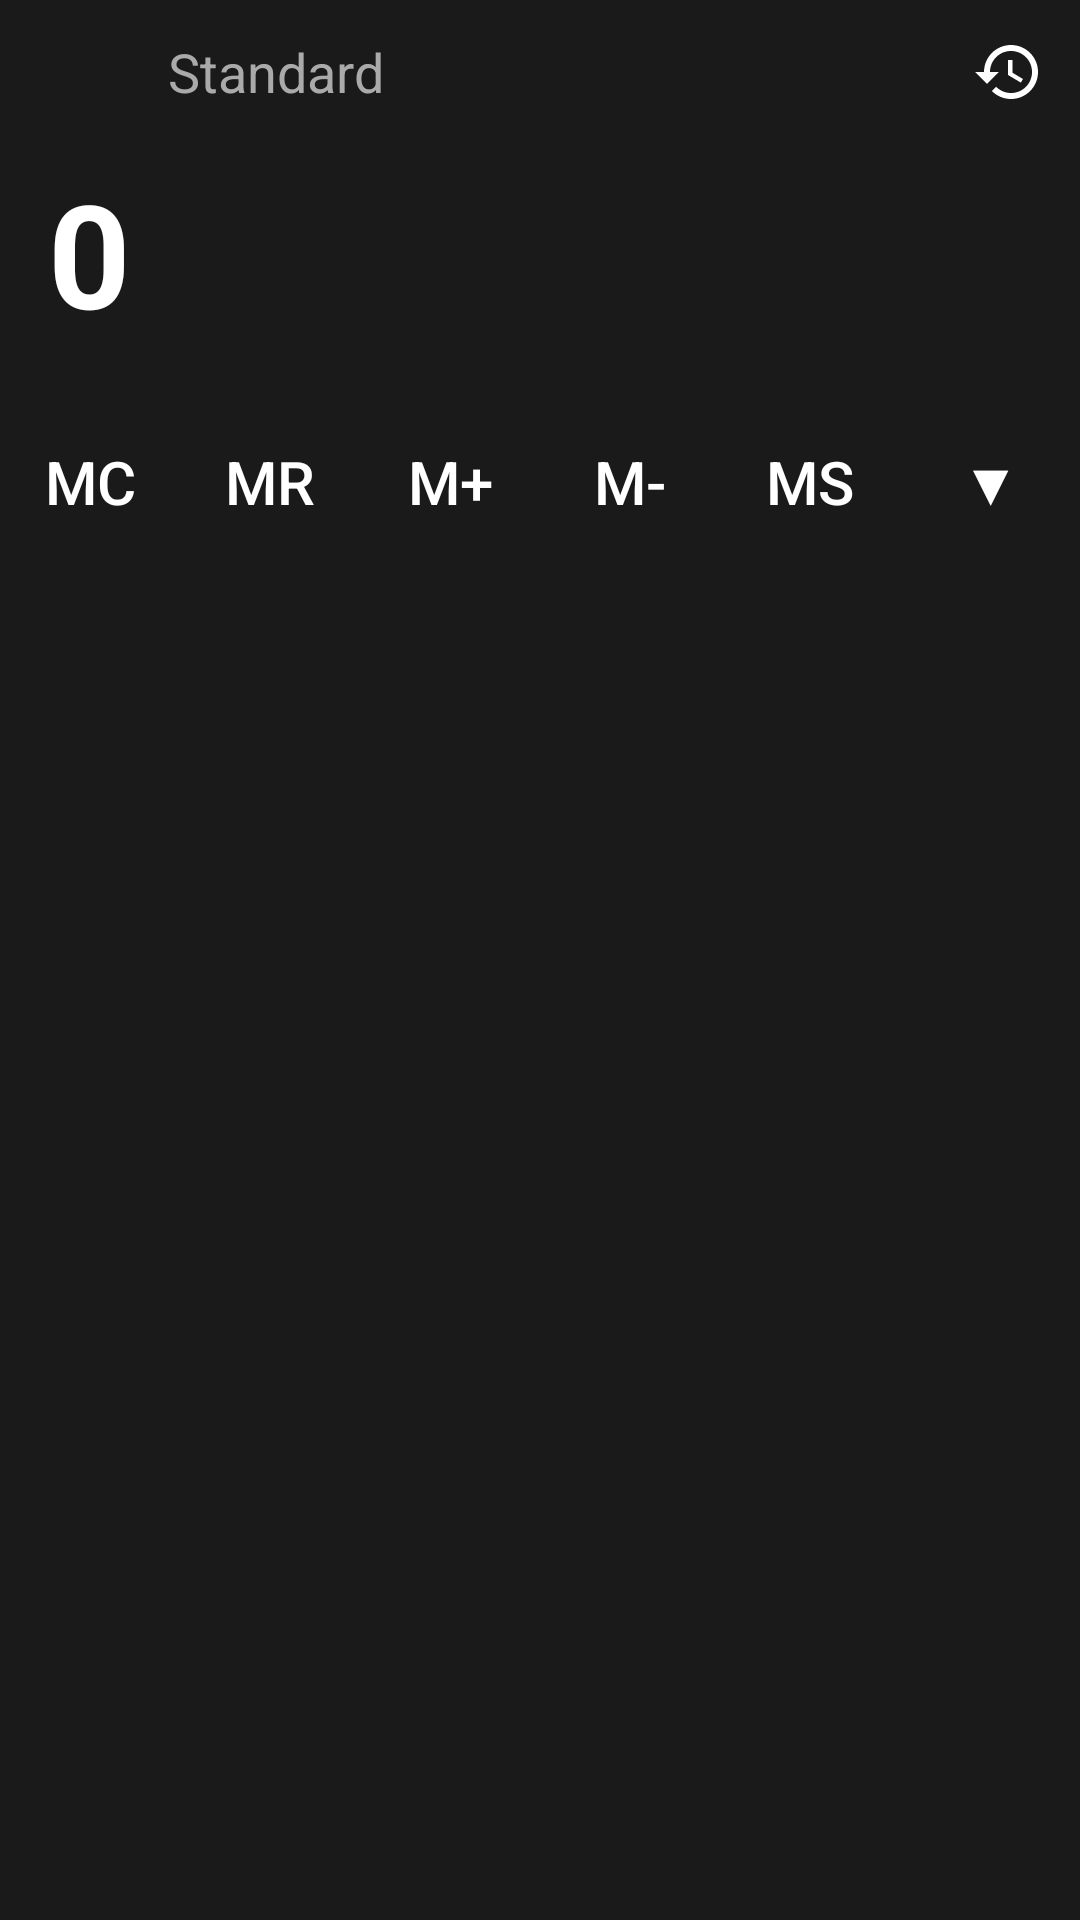

Where to tap for icons on this 1080px×1920px app screen, as [x,y]:
History: [1006,72]
